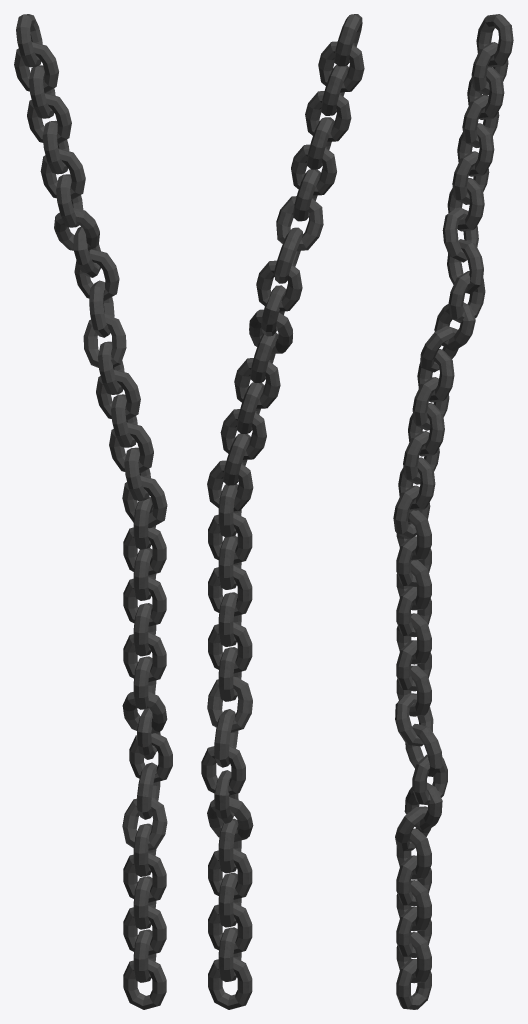
File: chains.fbx
The picture shows the model from 3 angles, left to right: view 1: azimuth 30°, elevation 25°; view 2: azimuth 210°, elevation 25°; view 3: azimuth 270°, elevation 25°; orthographic projection. The views are drawn at different scales.
Visible parts, largest first — view 1: pTorus20, pTorus19; view 2: pTorus19, pTorus20; view 3: pTorus20, pTorus19.
Part boxes in pixels (x1=…): pTorus20: x1=14, y1=14, x2=167, y2=528; pTorus19: x1=122, y1=496, x2=172, y2=1009; pTorus19: x1=201, y1=484, x2=253, y2=1009; pTorus20: x1=207, y1=14, x2=364, y2=511; pTorus20: x1=393, y1=14, x2=513, y2=538; pTorus19: x1=395, y1=510, x2=447, y2=1009.
Bounding box in the file's own units: 0.9515 × 7.41 × 0.8418.
Materials: 1 (1 with a texture image).
